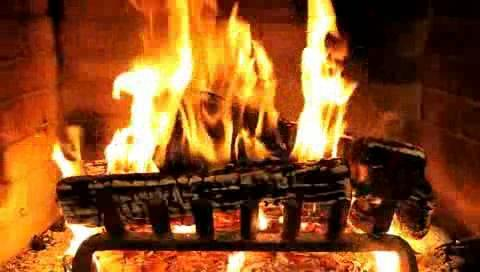fire: (97, 6, 358, 187)
